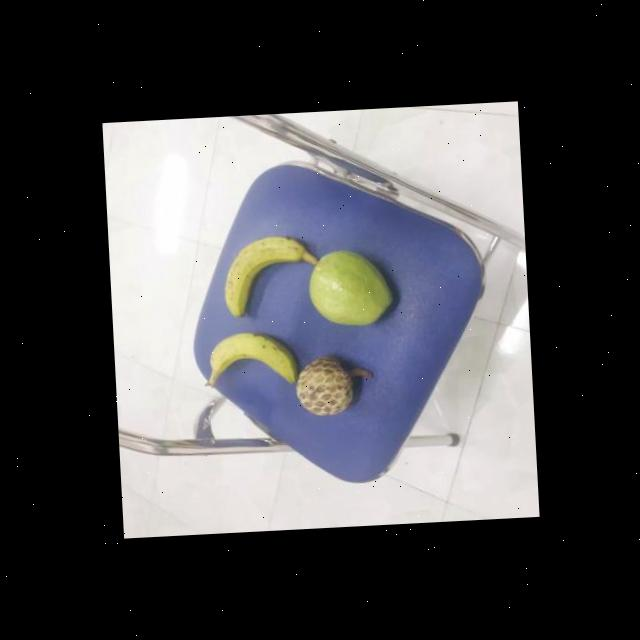Sakya fruit: (294, 351, 360, 419)
banana: (221, 230, 312, 316), (208, 326, 296, 389)
guava: (308, 242, 391, 328)
